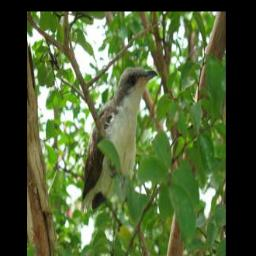Cuckoo: (80, 64, 156, 217)
